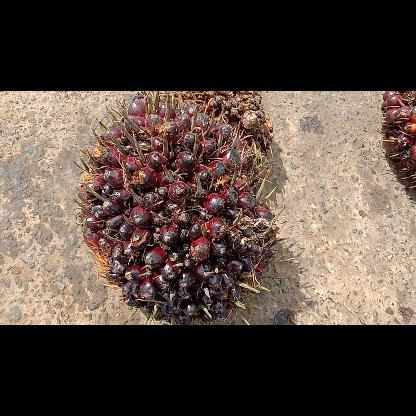Kurang masak: (72, 90, 294, 324)
TBS abnormal: (163, 91, 273, 153)
